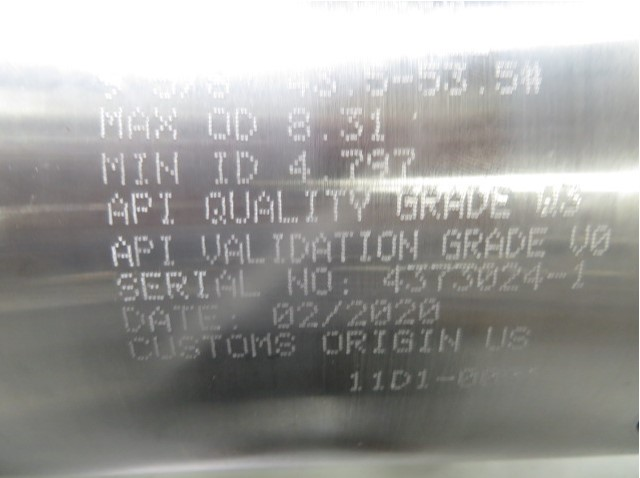character: (111, 270, 141, 306), (156, 189, 182, 230), (234, 266, 262, 304), (240, 230, 268, 266), (156, 234, 182, 272), (198, 231, 226, 266), (165, 268, 191, 304), (131, 232, 157, 268), (106, 188, 130, 227), (284, 266, 312, 299), (138, 268, 165, 302), (398, 226, 422, 264), (329, 230, 355, 265), (192, 303, 223, 332), (129, 190, 153, 226), (404, 262, 430, 295), (374, 227, 397, 264), (415, 294, 440, 328), (439, 227, 464, 261), (245, 332, 274, 361), (567, 226, 591, 261), (506, 226, 527, 265), (119, 307, 147, 336), (437, 327, 465, 356), (151, 333, 178, 363), (392, 327, 419, 357), (380, 265, 406, 296), (593, 221, 613, 261), (109, 236, 133, 269), (502, 261, 525, 295), (147, 304, 173, 334), (189, 266, 210, 303), (309, 232, 334, 263), (287, 230, 309, 265), (212, 268, 236, 300), (454, 259, 475, 295), (295, 301, 321, 330), (126, 335, 152, 364), (318, 300, 344, 329), (485, 325, 511, 354), (270, 300, 295, 330), (221, 235, 246, 265), (431, 261, 453, 295), (201, 330, 224, 362), (321, 327, 344, 359), (177, 334, 202, 363), (477, 258, 496, 296), (346, 299, 370, 329), (368, 298, 392, 328), (393, 295, 417, 325), (225, 332, 249, 362), (463, 225, 483, 261), (526, 224, 546, 260), (346, 328, 369, 359), (509, 324, 535, 351), (569, 258, 589, 293), (171, 302, 195, 331), (274, 331, 297, 361), (525, 261, 545, 295), (485, 226, 505, 260), (313, 265, 333, 298), (269, 230, 287, 265), (357, 229, 374, 266), (417, 326, 436, 358), (391, 368, 413, 395), (345, 369, 366, 397), (370, 327, 390, 356), (369, 367, 387, 395), (415, 367, 429, 396)
